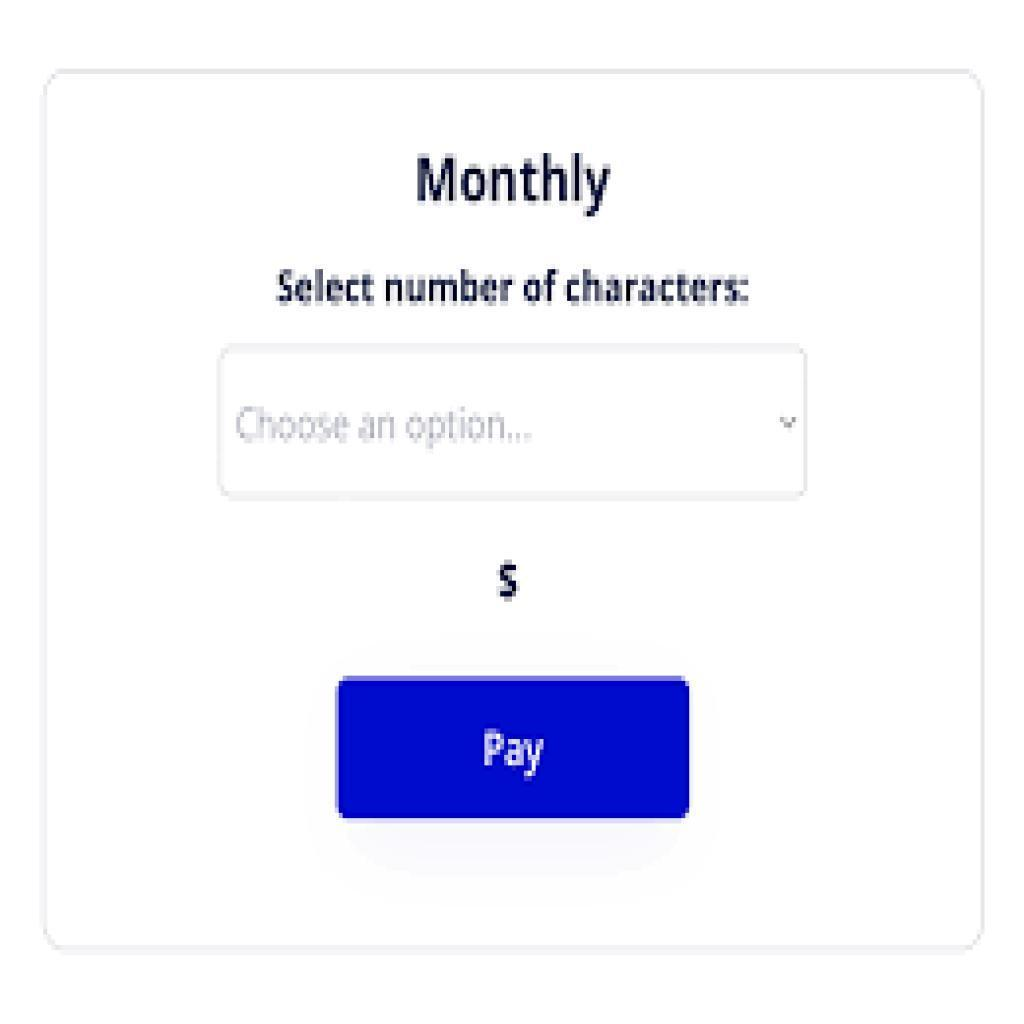button: (339, 679, 692, 823)
dropdown: (222, 343, 809, 499)
